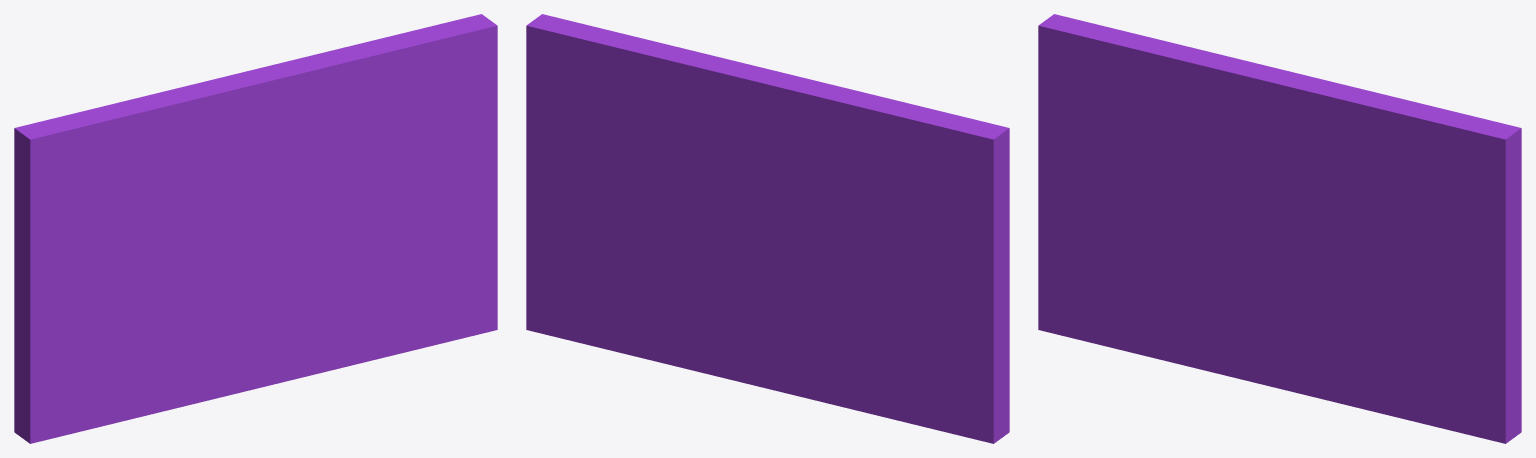
The model's file is Barrier_91_chunks.fbx.
3 renders of one model, left to right at view 1: azimuth 30°, elevation 25°; view 2: azimuth 150°, elevation 25°; view 3: azimuth 330°, elevation 25°, orthographic.
Visible parts, largest first — view 1: Barrier_91_0, Barrier_91_2, Barrier_91_6, Barrier_91_5, Barrier_91_3, Barrier_91_1, Barrier_91_4; view 2: Barrier_91_2, Barrier_91_0, Barrier_91_6, Barrier_91_4, Barrier_91_3; view 3: Barrier_91_2, Barrier_91_0, Barrier_91_6, Barrier_91_5, Barrier_91_3, Barrier_91_1.
Boxes of the visible parts, <box> form: Barrier_91_0: <box>14,70,273,412</box>; Barrier_91_2: <box>253,14,497,336</box>; Barrier_91_6: <box>231,272,468,390</box>; Barrier_91_5: <box>27,333,247,443</box>; Barrier_91_3: <box>105,262,270,357</box>; Barrier_91_1: <box>234,211,425,315</box>; Barrier_91_4: <box>14,392,27,441</box>; Barrier_91_2: <box>526,14,765,335</box>; Barrier_91_0: <box>755,68,1009,403</box>; Barrier_91_6: <box>550,245,792,390</box>; Barrier_91_4: <box>777,332,1006,443</box>; Barrier_91_3: <box>735,232,922,350</box>; Barrier_91_2: <box>1275,72,1521,443</box>; Barrier_91_0: <box>1038,14,1292,298</box>; Barrier_91_6: <box>1239,276,1476,436</box>; Barrier_91_5: <box>1038,280,1255,382</box>; Barrier_91_3: <box>1113,247,1279,317</box>; Barrier_91_1: <box>1242,213,1434,395</box>.
Size of the model in its own units: 462 by 288 by 27.2.
